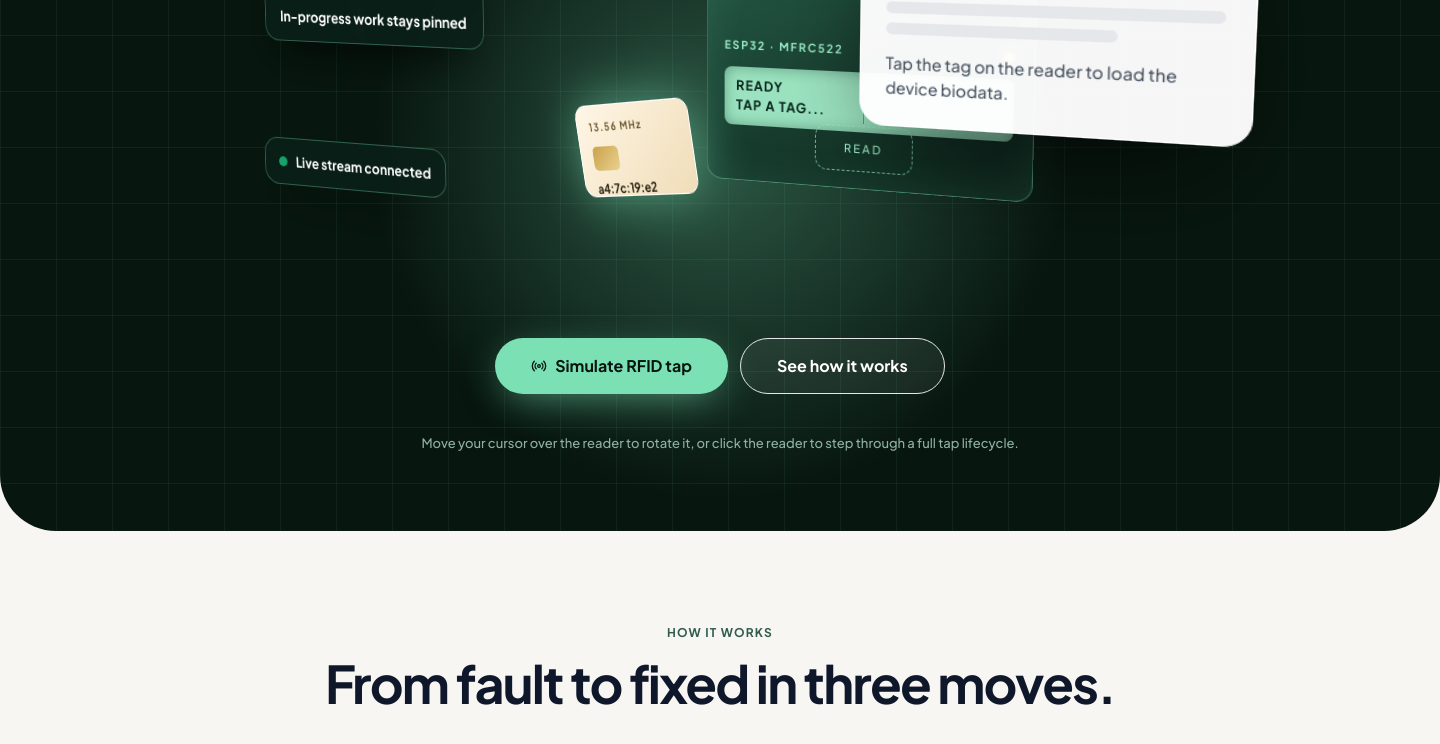
Test: HomePage 3D RFID stage & interactive sections › steps through idle -> start -> closeout -> resolved on RFID reader tap
This screenshot has width=1440, height=744.
(page scrolled)
# Tap 1: Start
Click the button "Simulate RFID tap".
click(612, 366)  # box [495, 338, 728, 394]
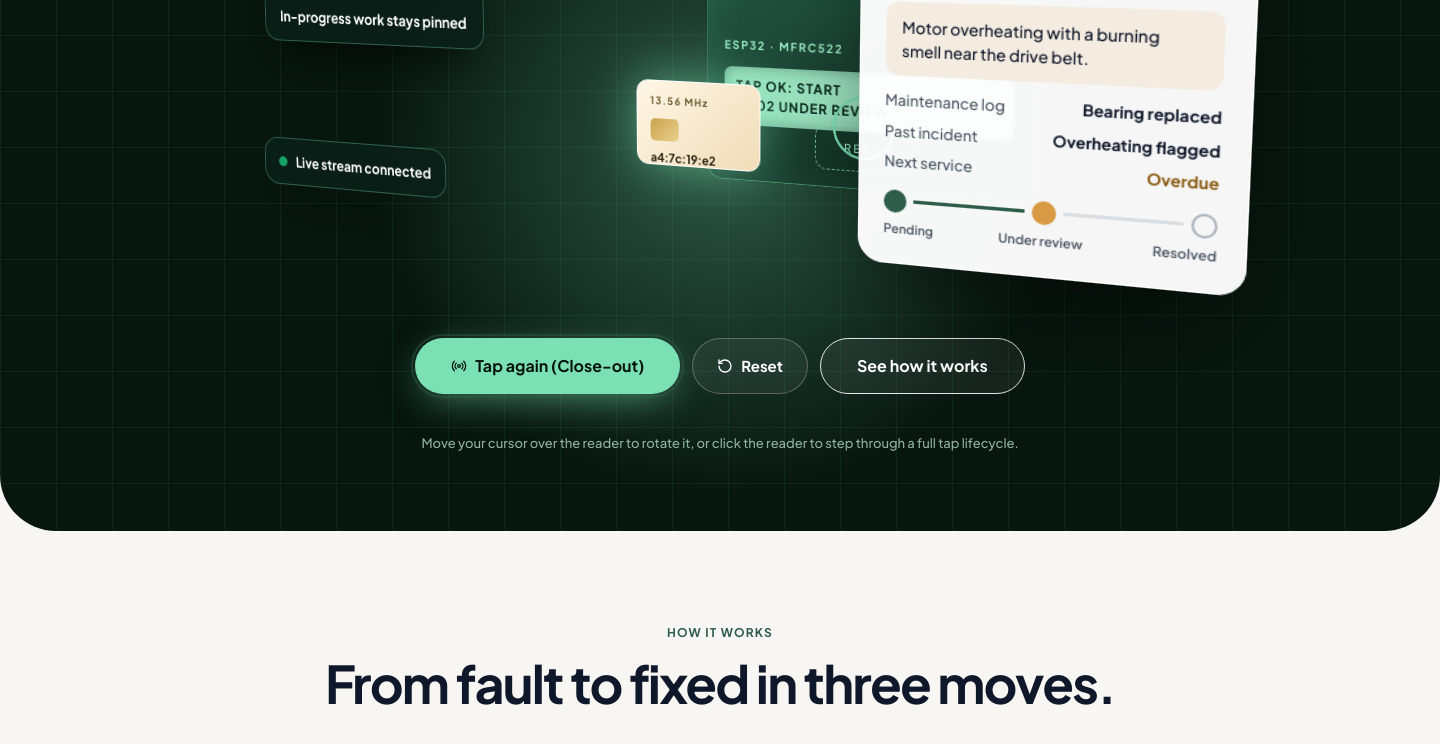
Result: the text "TAP OK: START" is shown at [736, 76, 841, 98]
# Tap 2: Close-out
Click the button "Tap again (Close-out)".
click(548, 366)  # box [415, 338, 680, 394]
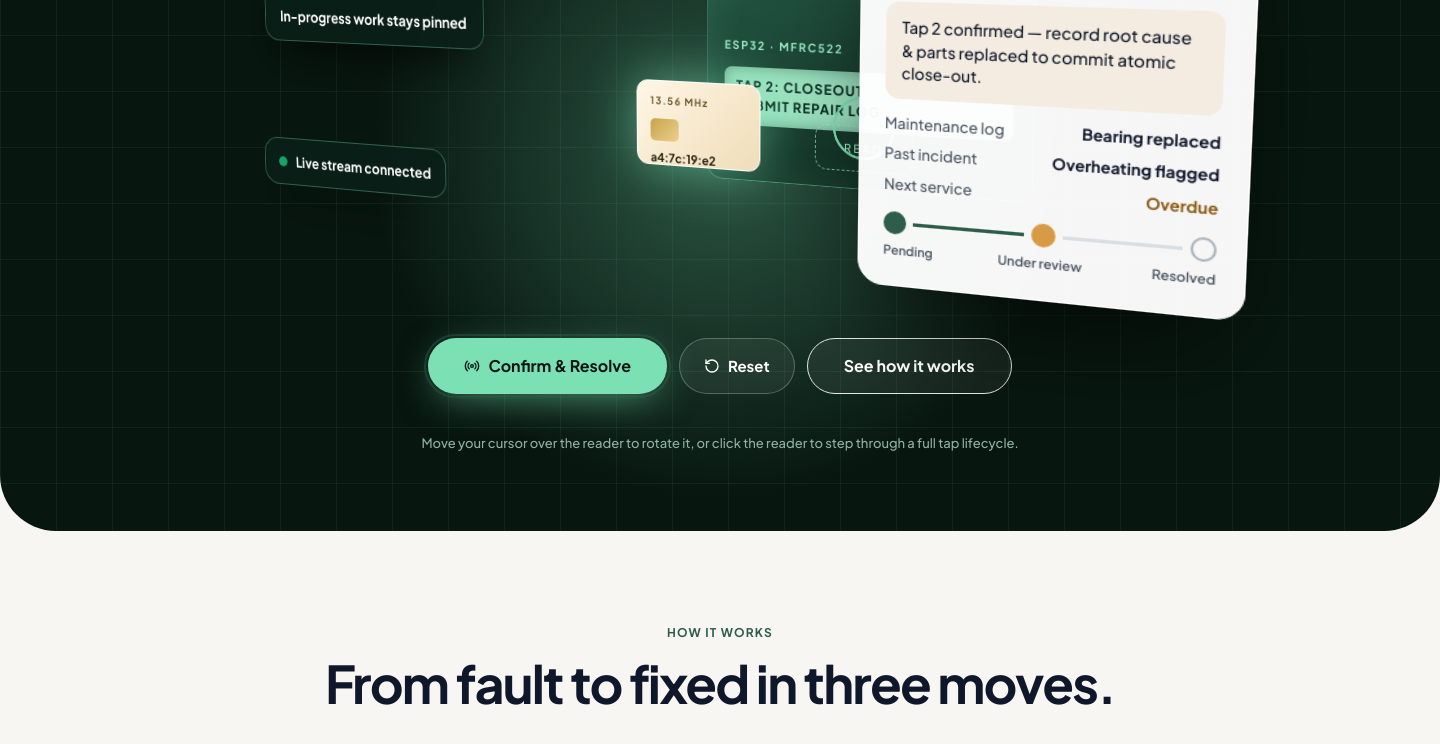
Result: the text "TAP 2: CLOSEOUT" is shown at [736, 76, 864, 100]
# Tap 3: Resolve
Click the button "Confirm & Resolve".
click(548, 366)  # box [428, 338, 667, 394]
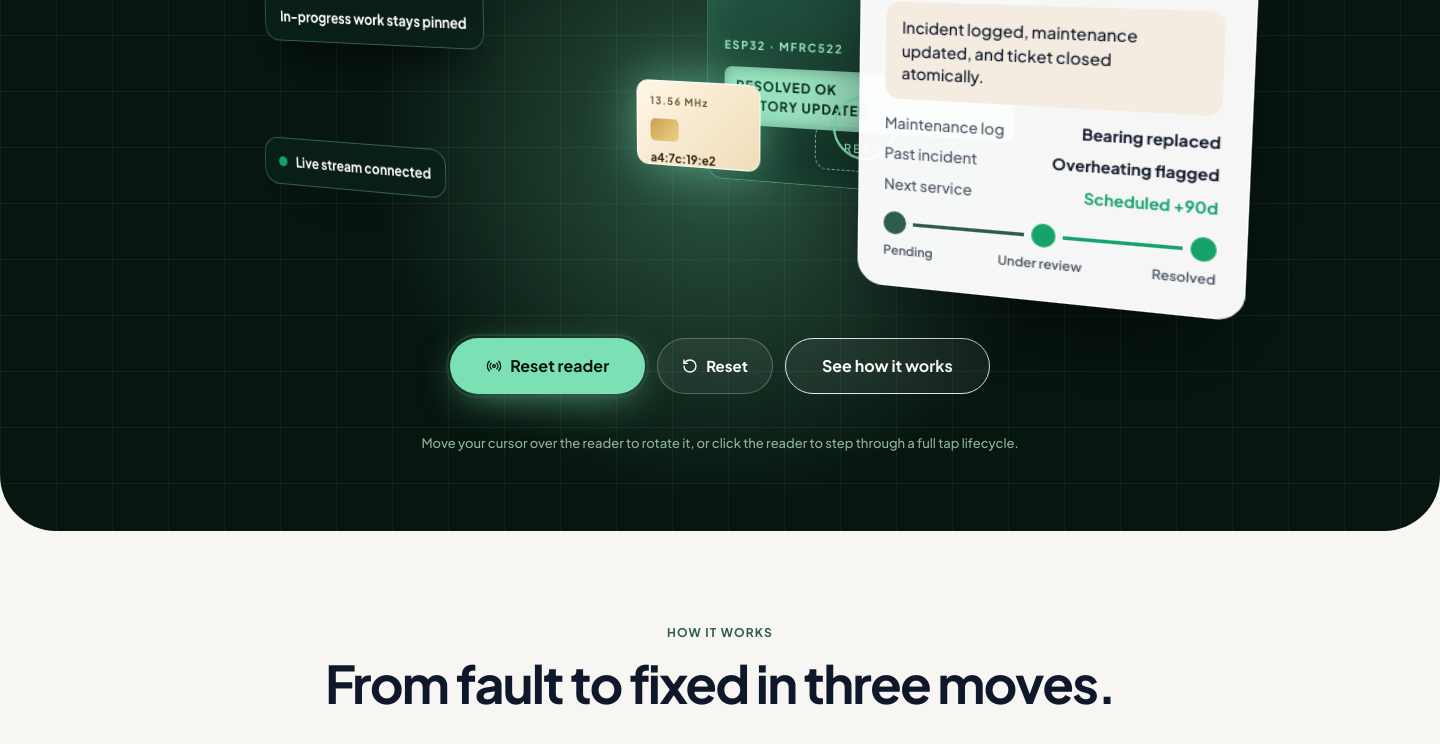
Result: the text "RESOLVED OK" is shown at [736, 76, 837, 98]
